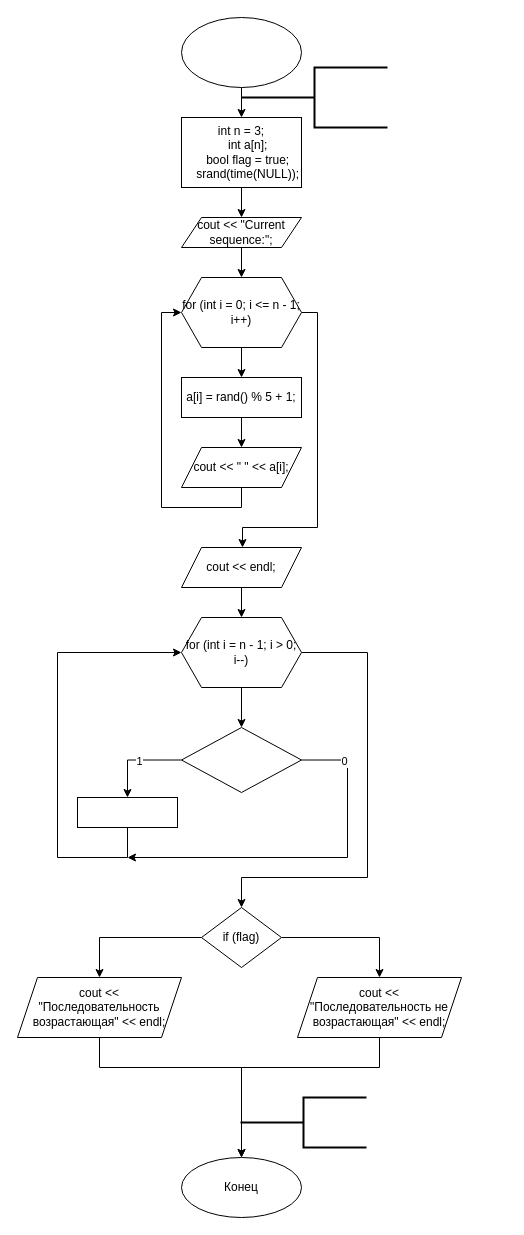
Image size: 524x1235. Some labels were removed from this diagram. Each missing label, with the centre of its shape:
#include <iostream> using namespace std; int main() {: [314,97]
flag = false;: [127,812]
if (a[i] < a[i - 1]): [241,759]
return 0; }: [303,1122]
Запуск: [241,52]
